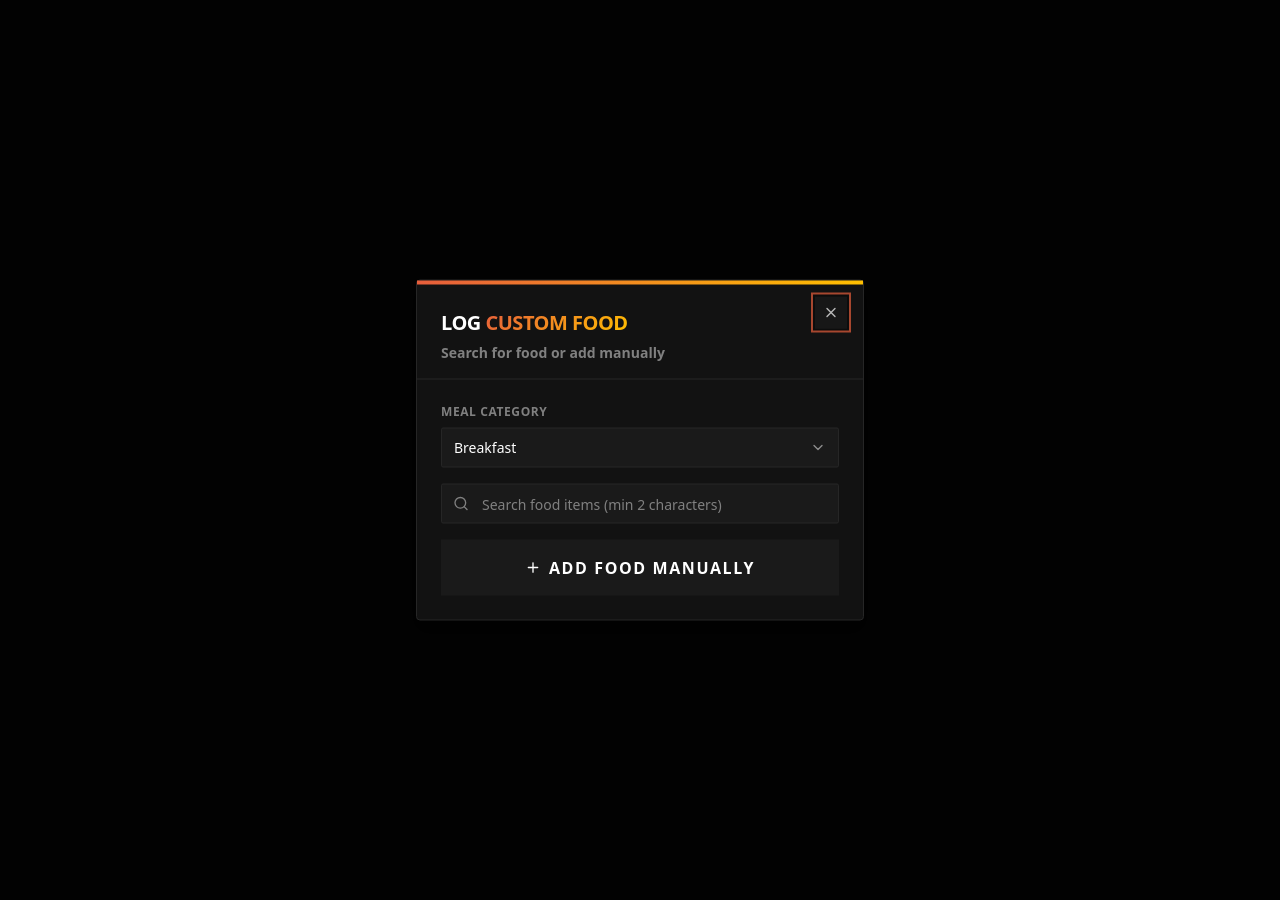
it: FoodSearch Component › enables Log Food button when all fields are filled
Click the button "Add Food Manually".
click(640, 568)  # box [441,540,839,596]
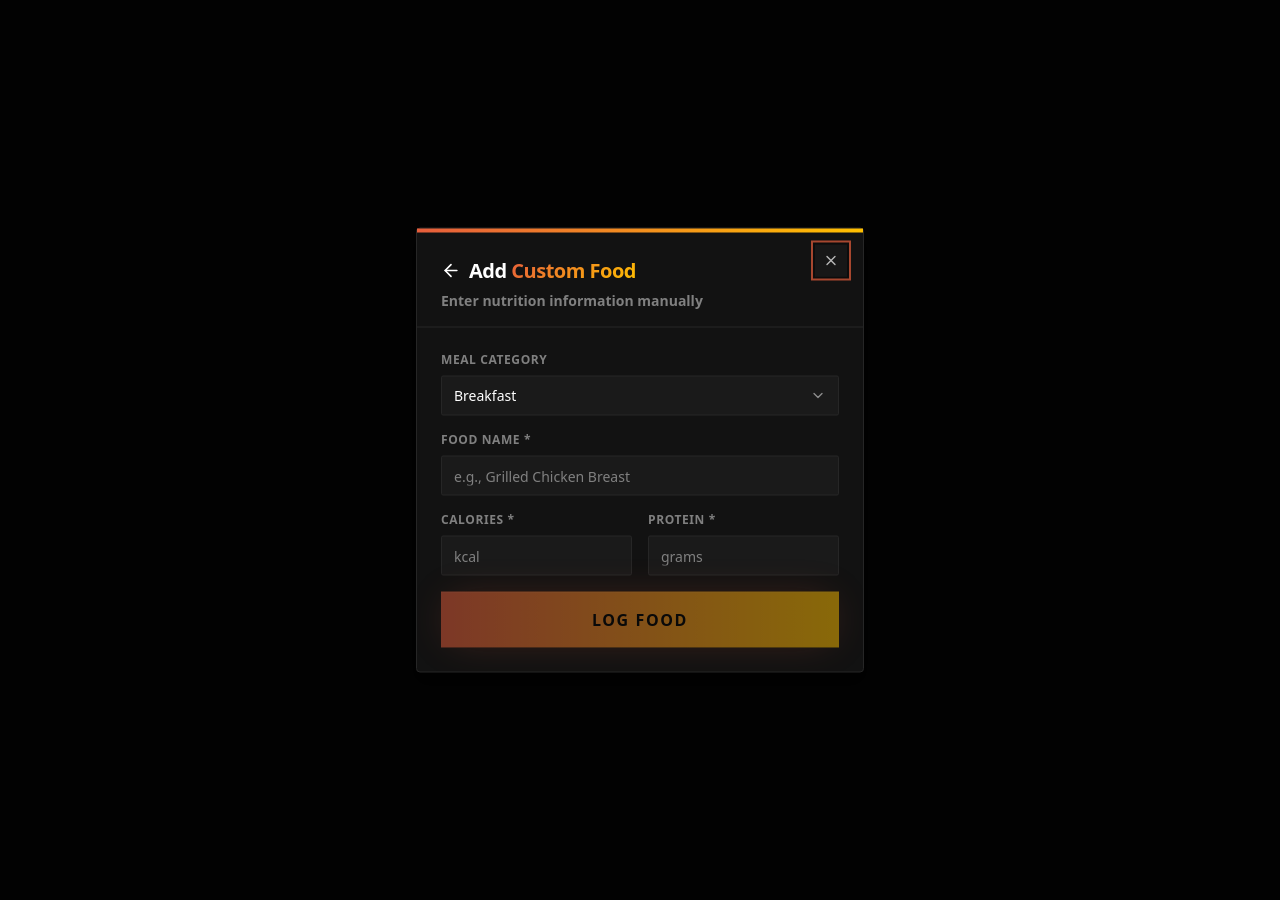
Type "Custom Food" into the field with placeholder "e.g., Grilled Chicken Breast".
click(640, 476); type("Custom Food")  # box [441,456,839,496]
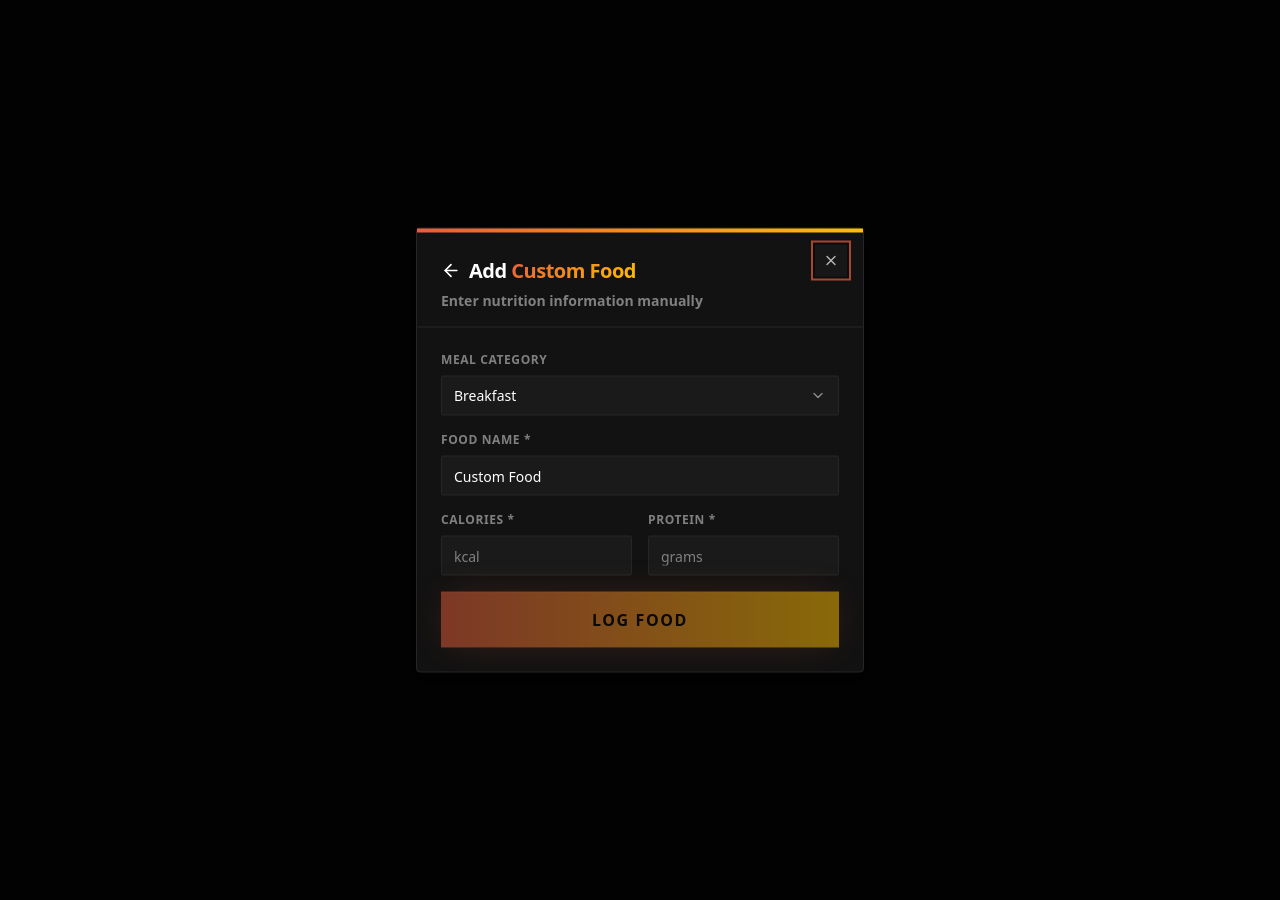
Type "250" into the number field with placeholder "kcal".
click(536, 556); type("250")  # box [441,536,632,576]
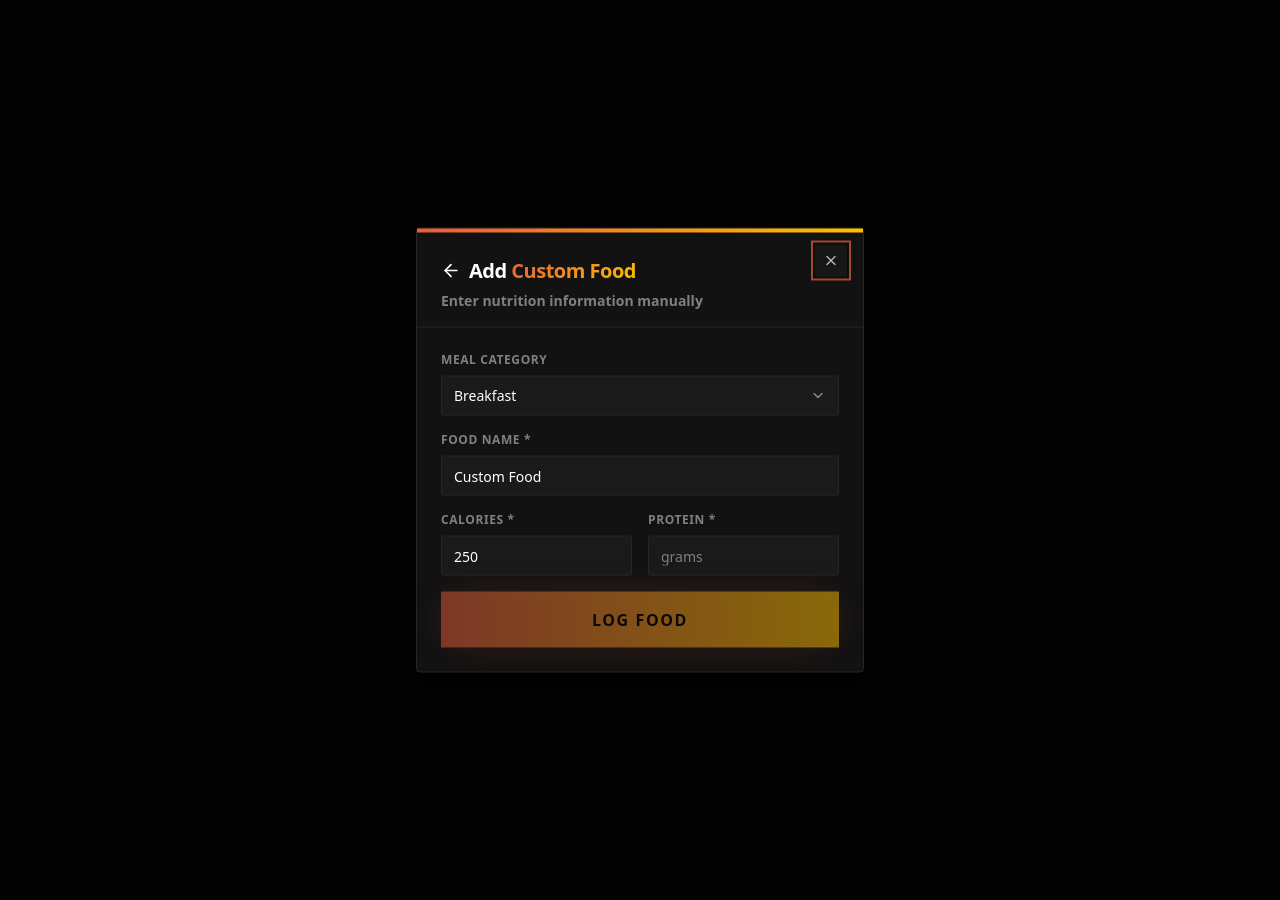
Type "20" into the number field with placeholder "grams".
click(744, 556); type("20")  # box [648,536,839,576]
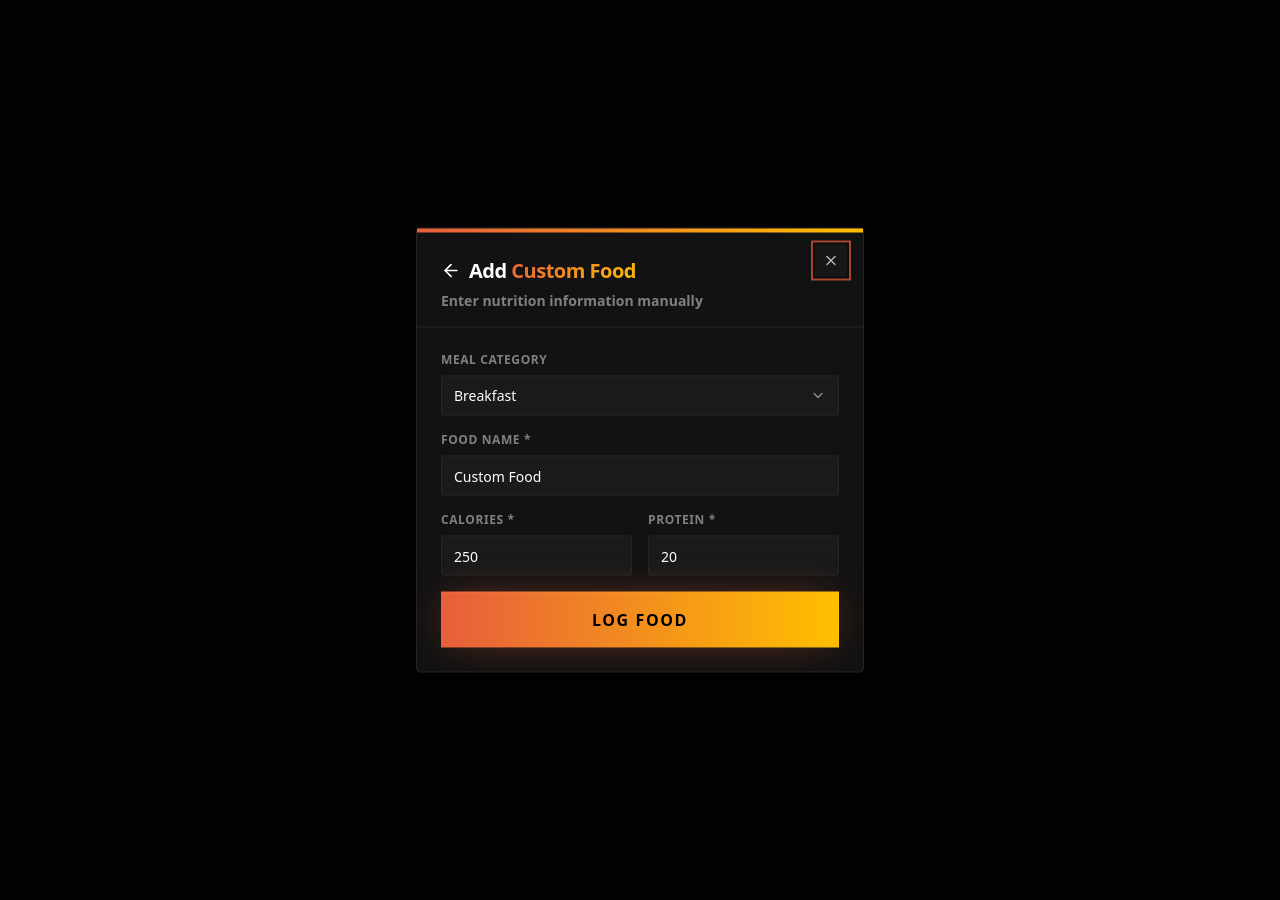
Expected: the button "Log Food" is enabled, [441,592,839,648]
